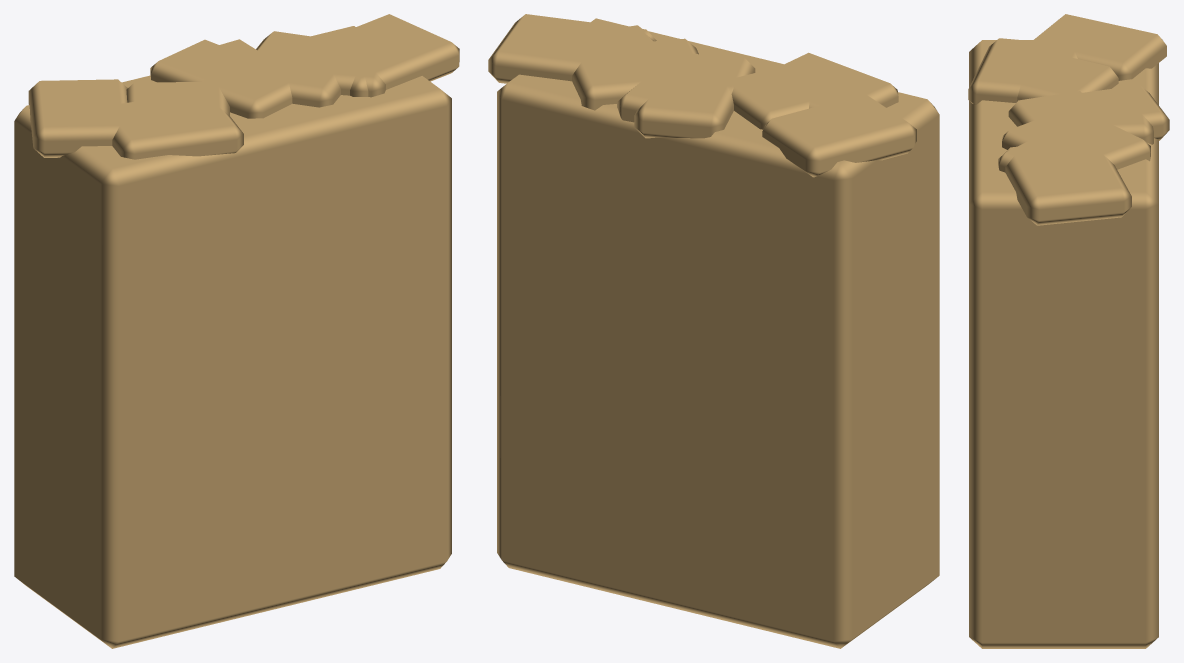
The model's file is BacksackSand.glb.
3 renders of one model, left to right at view 1: azimuth 30°, elevation 25°; view 2: azimuth 150°, elevation 25°; view 3: azimuth 270°, elevation 25°, orthographic. The views are drawn at different scales.
Visible parts, largest first — view 1: BacksackSand.001; view 2: BacksackSand.001; view 3: BacksackSand.001.
Part boxes in pixels (left/top/right/bottom): BacksackSand.001: left=14, top=14, right=459, bottom=648; BacksackSand.001: left=488, top=14, right=939, bottom=648; BacksackSand.001: left=968, top=14, right=1169, bottom=648.
Size of the model in its own units: 0.344 by 0.3975 by 0.1536.
